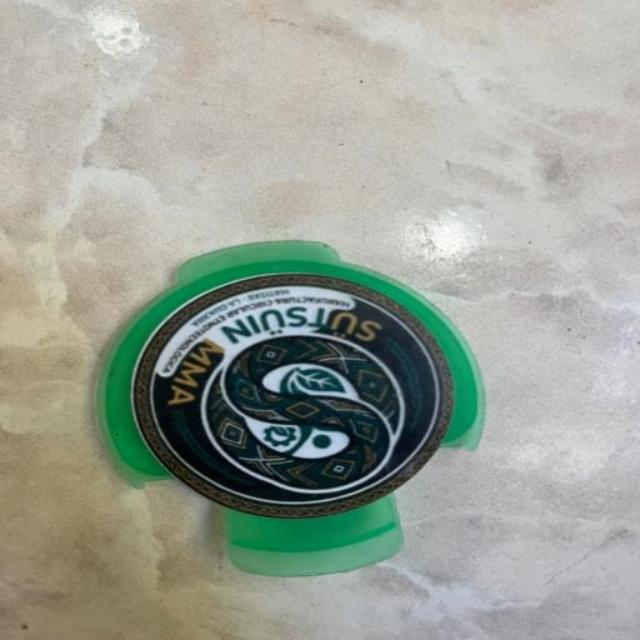HDPE: (78, 221, 578, 628)
